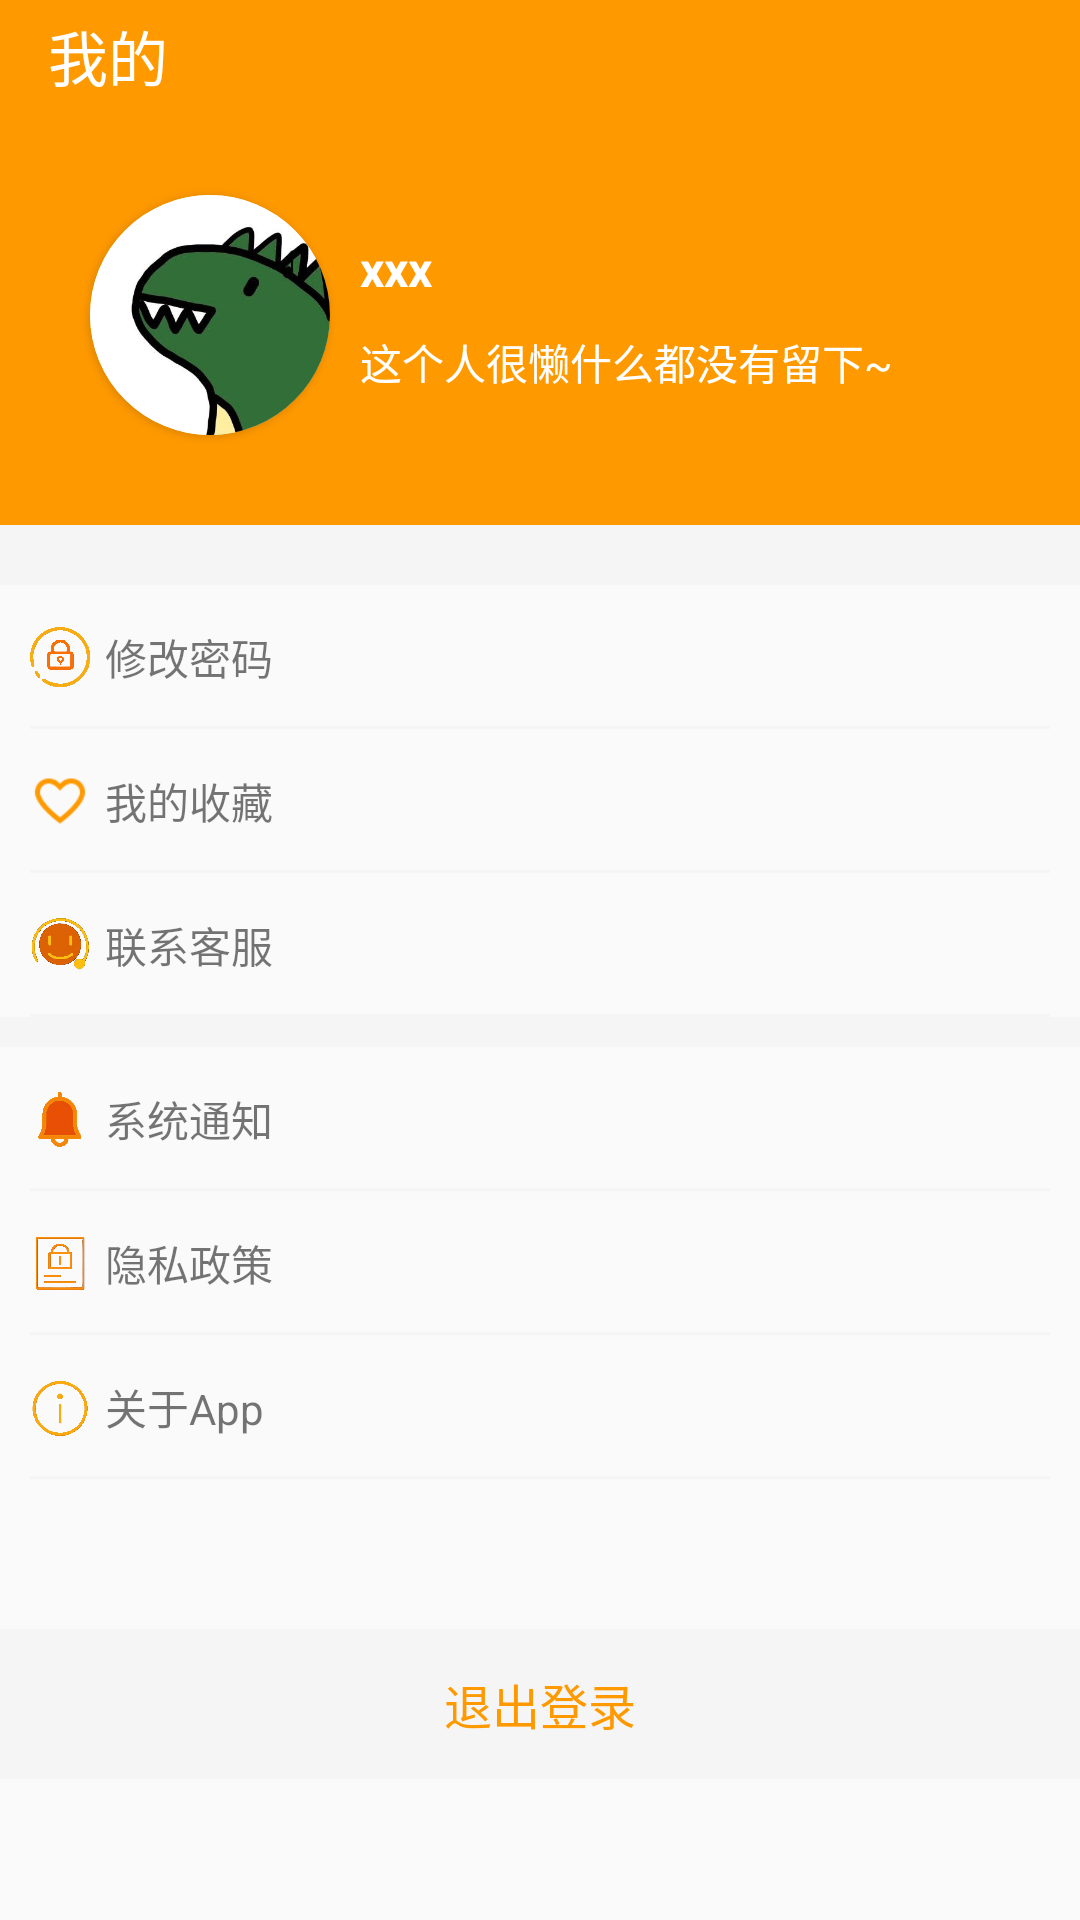

Screen size 1080 × 1920. Icon name, then its box in pixels as [x1,y1,x2,y2]:
collect: [35,778,85,824]
mine guanyu: [32,1381,88,1436]
mine kefu: [32,918,89,970]
mine mima: [30,627,90,687]
mine tozhi: [38,1092,81,1147]
mine yinsi: [35,1237,85,1290]
